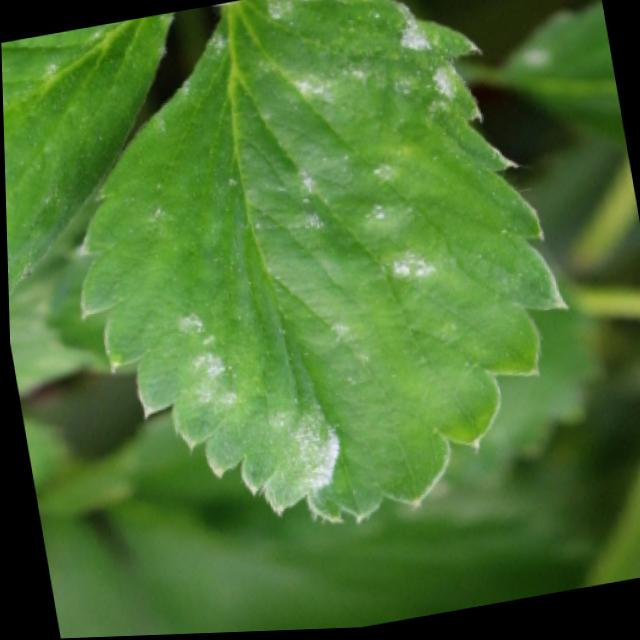Powdery Mildew Leaf: (75, 0, 572, 528), (1, 12, 178, 297)
